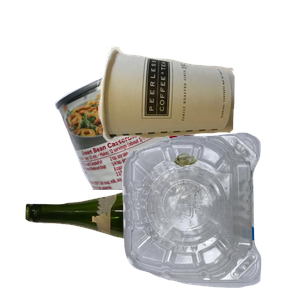glass: (23, 186, 249, 300)
metal: (52, 57, 260, 237)
plastic: (119, 130, 300, 300)
trash: (95, 44, 300, 180)
